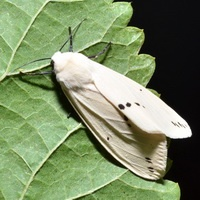insect: (52, 52, 191, 179)
